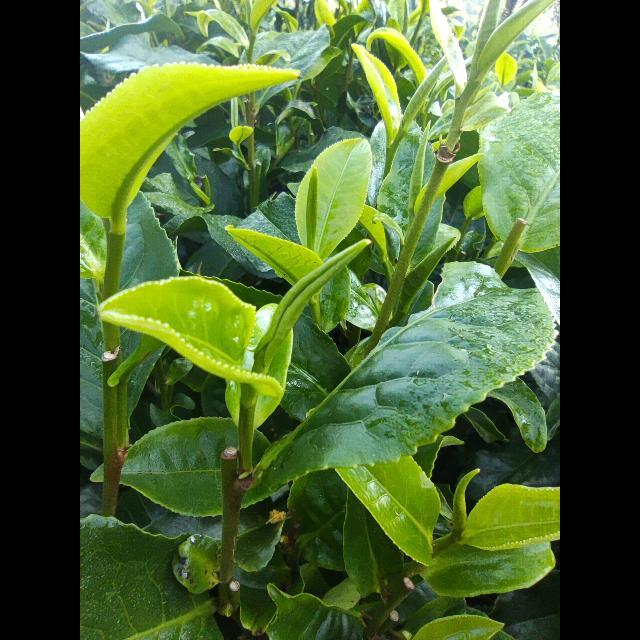Stem: (107, 233, 122, 266), (240, 406, 254, 434), (387, 149, 393, 163)
